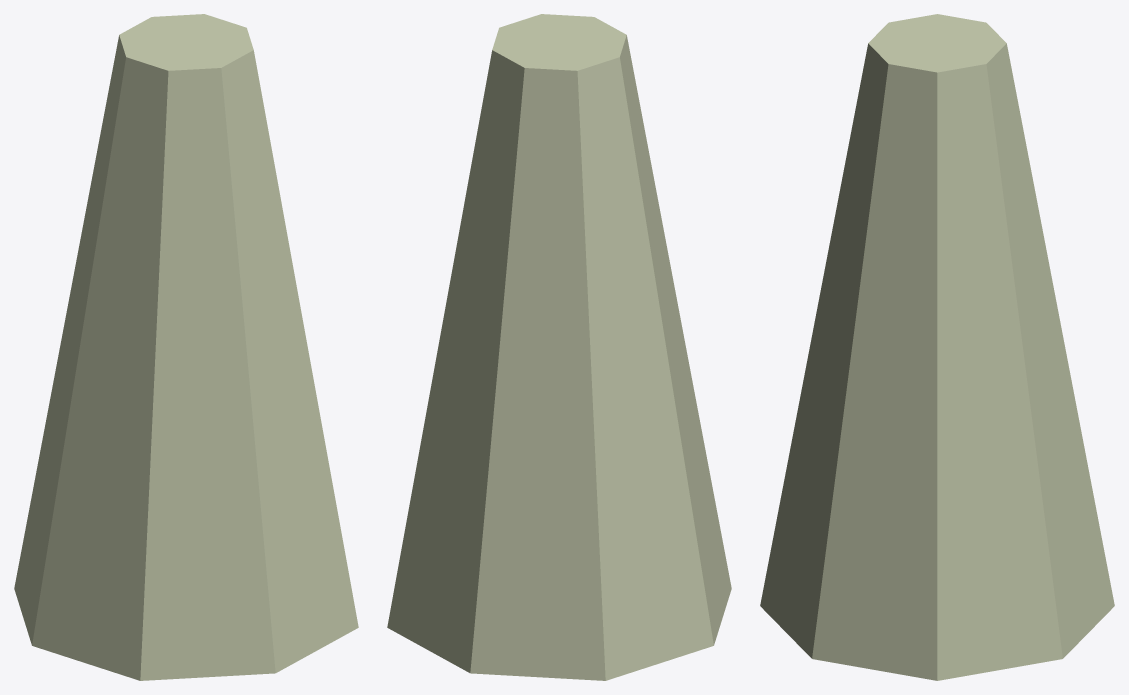
Rendered from libra_lv_engine_s0_2_collider.obj.
3 views of the same model, side by side, from view 1: azimuth 30°, elevation 25°; view 2: azimuth 150°, elevation 25°; view 3: azimuth 270°, elevation 25° (orthographic).
Visible parts, largest first — view 1: collider; view 2: collider; view 3: collider.
Part boxes in pixels (<box>): collider: <box>14,14,358,680</box>; collider: <box>387,14,731,680</box>; collider: <box>760,14,1114,680</box>.
Bounding box in the file's own units: 1.6 × 2.8 × 1.6.
